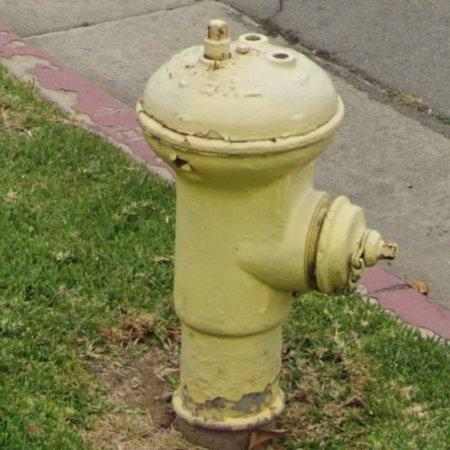a fire hydrant: (137, 19, 398, 450)
